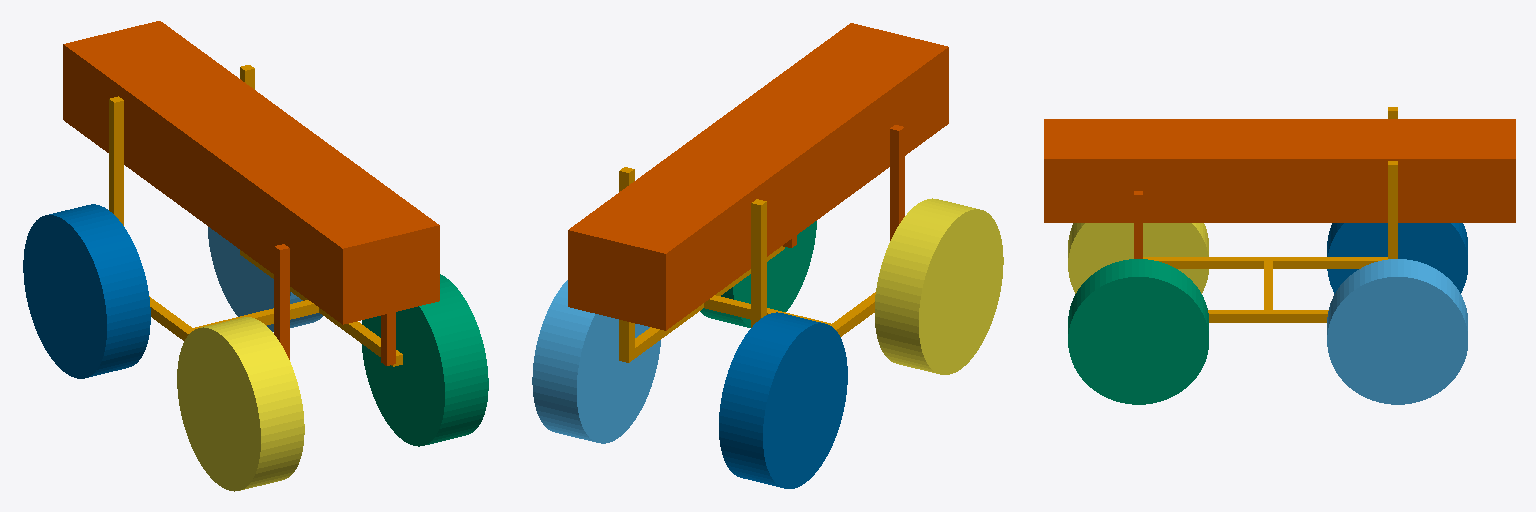
URDF robot description (simpleMod):
<?xml version="1.0" ?>
<robot name="simpleMod">

<material name="silver">
  <color rgba="0.700 0.700 0.700 1.000"/>
</material>

<link name="base_link">
  <inertial>
    <origin rpy="0 0 0" xyz="-0.245 0.36548780487804877 0.07317073170731707"/>
    <mass value="6.436999999999999"/>
    <inertia ixx="0.2609357869918649" ixy="0.0" ixz="0.0" iyy="0.17940329369918712" iyz="-0.07096189390243904" izz="0.2961017766260119"/>
  </inertial>
  <visual>
    <origin rpy="0 0 0" xyz="0 0 0"/>
    <geometry>
        <mesh filename="package://simpleMod/meshes/base_link.stl" scale="0.001 0.001 0.001"/>
    </geometry>
    <material name="silver"/>
    <material/>
  </visual>
  <collision>
    <origin rpy="0 0 0" xyz="0 0 0"/>
    <geometry>
        <mesh filename="package://simpleMod/meshes/base_link.stl" scale="0.001 0.001 0.001"/>
    </geometry>
  </collision>
</link>

<link name="Component41">
  <inertial>
    <origin rpy="0 0 0" xyz="0.045 -1.1102230246251565e-16 5.574033788925725e-17"/>
    <mass value="49.93954221962675"/>
    <inertia ixx="0.561819849970794" ixy="2.220446049250313e-16" ixz="6.631284276962375e-17" iyy="0.3146191159836522" iyz="3.655441105365732e-16" izz="0.3146191159836391"/>
  </inertial>
  <visual>
    <origin rpy="0 0 0" xyz="0.1 -0.55 0.0"/>
    <geometry>
      <mesh filename="package://simpleMod/meshes/Component41.stl" scale="0.001 0.001 0.001"/>
    </geometry>
    <material name="silver"/>
    <material/>
  </visual>
  <collision>
    <origin rpy="0 0 0" xyz="0.1 -0.55 0.0"/>
    <geometry>
      <mesh filename="package://simpleMod/meshes/Component41.stl" scale="0.001 0.001 0.001"/>
    </geometry>
  </collision>
</link>

<link name="Component31">
  <inertial>
    <origin rpy="0 0 0" xyz="0.045 2.2874165333815423e-17 4.551914400963141e-17"/>
    <mass value="49.93954221962675"/>
    <inertia ixx="0.5618198499707928" ixy="2.8558133635670037e-17" ixz="1.462756169494998e-16" iyy="0.31461911598365244" iyz="-1.827720552682897e-16" izz="0.3146191159836359"/>
  </inertial>
  <visual>
    <origin rpy="0 0 0" xyz="0.1 -0.0 0.0"/>
    <geometry>
      <mesh filename="package://simpleMod/meshes/Component31.stl" scale="0.001 0.001 0.001"/>
    </geometry>
    <material name="silver"/>
    <material/>
  </visual>
  <collision>
    <origin rpy="0 1.5708 0" xyz="0.1 -0.0 0.0"/>
    <geometry>
      <cylinder radius=".15" length=".09"/>
    </geometry>
  </collision>
</link>

<link name="Component21">
  <inertial>
    <origin rpy="0 0 0" xyz="-0.04499999999999993 2.2874165333815423e-17 5.574033788925725e-17"/>
    <mass value="49.93954221962675"/>
    <inertia ixx="0.5618198499707923" ixy="5.711626727134089e-18" ixz="6.631284276962395e-17" iyy="0.3146191159836551" iyz="3.655441105365744e-16" izz="0.3146191159836391"/>
  </inertial>
  <visual>
    <origin rpy="0 0 0" xyz="0.39 -0.0 -0.0"/>
    <geometry>
      <mesh filename="package://simpleMod/meshes/Component21.stl" scale="0.001 0.001 0.001"/>
    </geometry>
    <material name="silver"/>
    <material/>
  </visual>
  <collision>
    <origin rpy="0 0 0" xyz="0.39 -0.0 -0.0"/>
    <geometry>
      <mesh filename="package://simpleMod/meshes/Component21.stl" scale="0.001 0.001 0.001"/>
    </geometry>
  </collision>
</link>

<link name="Component11">
  <inertial>
    <origin rpy="0 0 0" xyz="-0.044999999999999984 0.0 5.329070518200751e-17"/>
    <mass value="49.93954221962674"/>
    <inertia ixx="0.5618198499707869" ixy="-1.7763568394002505e-15" ixz="1.6109597928325866e-16" iyy="0.31461911598365155" iyz="1.099924501033629e-15" izz="0.31461911598362846"/>
  </inertial>
  <visual>
    <origin rpy="0 0 0" xyz="0.39 -0.55 -0.0"/>
    <geometry>
      <mesh filename="package://simpleMod/meshes/Component11.stl" scale="0.001 0.001 0.001"/>
    </geometry>
    <material name="silver"/>
    <material/>
  </visual>
  <collision>
    <origin rpy="0 0 0" xyz="0.39 -0.55 -0.0"/>
    <geometry>
      <mesh filename="package://simpleMod/meshes/Component11.stl" scale="0.001 0.001 0.001"/>
    </geometry>
  </collision>
</link>

<link name="Component81">
  <inertial>
    <origin rpy="0 0 0" xyz="-0.12 0.2977765984182449 0.27896241286634416"/>
    <mass value="237.25839999999997"/>
    <inertia ixx="20.269401646980498" ixy="7.105427357601002e-15" ixz="0.0" iyy="1.293595177343363" iyz="-0.07330545130702504" izz="20.588476976303795"/>
  </inertial>
  <visual>
    <origin rpy="0 0 0" xyz="0.12 -0.0 -0.01"/>
    <geometry>
      <mesh filename="package://simpleMod/meshes/Component81.stl" scale="0.001 0.001 0.001"/>
    </geometry>
    <material name="silver"/>
    <material/>
  </visual>
  <collision>
    <origin rpy="0 0 0" xyz="0.12 -0.0 -0.01"/>
    <geometry>
      <mesh filename="package://simpleMod/meshes/Component81.stl" scale="0.001 0.001 0.001"/>
    </geometry>
  </collision>
</link>

<joint name="Rev1" type="continuous">
  <origin rpy="0 0 0" xyz="-0.1 0.55 0.0"/>
  <parent link="base_link"/>
  <child link="Component41"/>
  <axis xyz="1.0 0.0 0.0"/>
</joint>

<transmission name="Rev1_tran">
  <type>transmission_interface/SimpleTransmission</type>
  <joint name="Rev1">
    <hardwareInterface>hardware_interface/VelocityJointInterface</hardwareInterface>
  </joint>
  <actuator name="Rev1_actr">
    <hardwareInterface>VelocityJointInterface</hardwareInterface>
    <mechanicalReduction>1</mechanicalReduction>
  </actuator>
</transmission>

<joint name="Rev2" type="continuous">
  <origin rpy="0 0 0" xyz="-0.1 0.0 0.0"/>
  <parent link="base_link"/>
  <child link="Component31"/>
  <axis xyz="1.0 0.0 0.0"/>
</joint>

<transmission name="Rev2_tran">
  <type>transmission_interface/SimpleTransmission</type>
  <joint name="Rev2">
    <hardwareInterface>VelocityJointInterface</hardwareInterface>
  </joint>
  <actuator name="Rev2_actr">
    <hardwareInterface>VelocityJointInterface</hardwareInterface>
    <mechanicalReduction>1</mechanicalReduction>
  </actuator>
</transmission>

<joint name="Rev3" type="continuous">
  <origin rpy="0 0 0" xyz="-0.39 0.0 0.0"/>
  <parent link="base_link"/>
  <child link="Component21"/>
  <axis xyz="-1.0 0.0 0.0"/>
</joint>

<transmission name="Rev3_tran">
  <type>transmission_interface/SimpleTransmission</type>
  <joint name="Rev3">
    <hardwareInterface>VelocityJointInterface</hardwareInterface>
  </joint>
  <actuator name="Rev3_actr">
    <hardwareInterface>VelocityJointInterface</hardwareInterface>
    <mechanicalReduction>1</mechanicalReduction>
  </actuator>
</transmission>

<joint name="Rev4" type="continuous">
  <origin rpy="0 0 0" xyz="-0.39 0.55 0.0"/>
  <parent link="base_link"/>
  <child link="Component11"/>
  <axis xyz="-1.0 0.0 0.0"/>
</joint>

<transmission name="Rev4_tran">
  <type>transmission_interface/SimpleTransmission</type>
  <joint name="Rev4">
    <hardwareInterface>VelocityJointInterface</hardwareInterface>
  </joint>
  <actuator name="Rev4_actr">
    <hardwareInterface>VelocityJointInterface</hardwareInterface>
    <mechanicalReduction>1</mechanicalReduction>
  </actuator>
</transmission>

<joint name="Rev5" type="continuous">
  <origin rpy="0 0 0" xyz="-0.12 0.0 0.01"/>
  <parent link="base_link"/>
  <child link="Component81"/>
  <axis xyz="-1.0 0.0 0.0"/>
</joint>

<transmission name="Rev5_tran">
  <type>transmission_interface/SimpleTransmission</type>
  <joint name="Rev5">
    <hardwareInterface>PositionJointInterface</hardwareInterface>
  </joint>
  <actuator name="Rev5_actr">
    <hardwareInterface>PositionJointInterface</hardwareInterface>
    <mechanicalReduction>1</mechanicalReduction>
  </actuator>
</transmission>

<gazebo>
  <plugin name="skid_steer_drive_controller" filename="libgazebo_ros_skid_steer_drive.so">
    <updateRate>100.0</updateRate>
    <robotNamespace>/simple_model</robotNamespace>
    <leftFrontJoint>Rev2</leftFrontJoint>
    <rightFrontJoint>Rev3</rightFrontJoint>
    <leftRearJoint>Rev1</leftRearJoint>
    <rightRearJoint>Rev4</rightRearJoint>
    <wheelSeparation>0.6</wheelSeparation>
    <wheelDiameter>0.3</wheelDiameter>
    <robotBaseFrame>base_link</robotBaseFrame>
    <torque>2000</torque>
    <topicName>cmd_vel</topicName>
    <broadcastTF>false</broadcastTF>
  </plugin> 
</gazebo>

<gazebo>
    <plugin name="gazebo_ros_control" filename= "libgazebo_ros_control.so">
        <robotNamespace>/simple_model</robotNamespace>
        <rosparam>/robot_description</rosparam>   
    </plugin>
</gazebo>

</robot>

--- What the picture shows (computed from the rendered views, not written in the file) ---
The picture shows the robot from 3 angles, left to right: view 1: azimuth 30°, elevation 25°; view 2: azimuth 150°, elevation 25°; view 3: azimuth 270°, elevation 25°; orthographic projection.
Model simpleMod with 6 links and 5 joints (5 continuous), rooted at base_link, posed every joint at zero.
Visible links, largest first — view 1: Component81, Component11, Component21, Component31, base_link, Component41; view 2: Component81, Component11, Component21, Component41, base_link, Component31; view 3: Component81, Component31, Component41, Component21, Component11, base_link.
Link boxes in pixels (<box>): Component81: <box>63,21,439,365</box>; Component11: <box>23,204,150,378</box>; Component21: <box>177,317,304,491</box>; Component31: <box>362,274,488,446</box>; base_link: <box>109,65,402,366</box>; Component41: <box>208,227,322,331</box>; Component81: <box>568,23,948,330</box>; Component11: <box>719,312,847,488</box>; Component21: <box>875,198,1003,374</box>; Component41: <box>532,280,660,443</box>; base_link: <box>619,167,875,362</box>; Component31: <box>700,221,816,327</box>; Component81: <box>1044,119,1515,258</box>; Component31: <box>1068,259,1208,404</box>; Component41: <box>1327,259,1467,404</box>; Component21: <box>1068,223,1208,293</box>; Component11: <box>1327,223,1467,293</box>; base_link: <box>1143,107,1397,322</box>.
Size in the robot's own frame: 0.47 by 1 by 0.52 metres.
Meshes: 6 distinct files referenced, 6 mesh visuals loaded (6 binary STL).